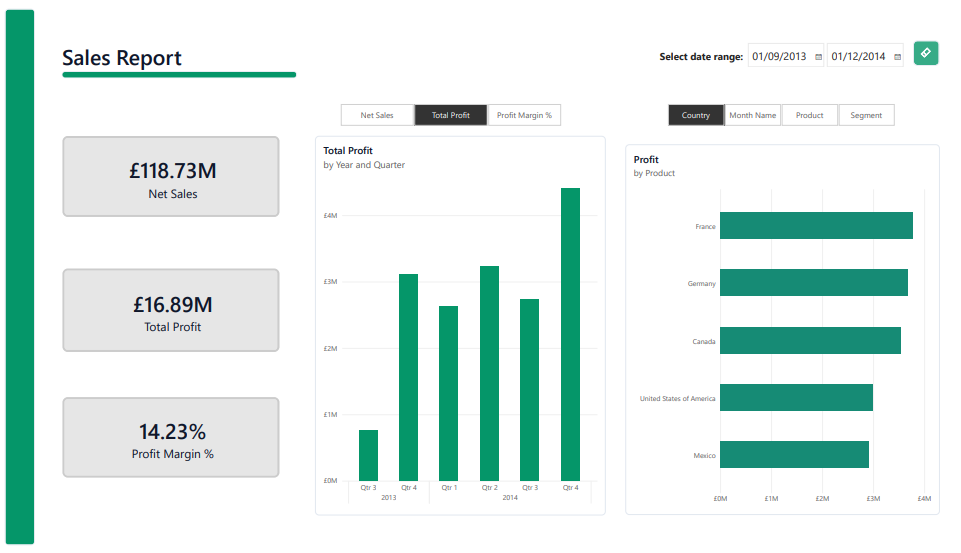

The dashboard page shown, as its layout file describes it:
{"tool":"powerbi","page":{"name":"Sales","canvas":[1920,1080],"ordinal":0},"visuals":[{"type":"shape","box":[0,0,60,1080],"z":0,"group":"g1"},{"type":"slicer","fields":{"Values":["financials.Date"]},"box":[1489.2,63.6,341,52.5],"z":0,"group":"g3"},{"type":"textbox","title":"Sales Report","box":[114.9,65.6,672.5,60],"z":0,"group":"g2"},{"type":"clusteredColumnChart","fields":{"Category":["financials.Date.Variation.Date Hierarchy.Year","financials.Date.Variation.Date Hierarchy.Quarter"],"Y":["financials.Total Profit"]},"box":[625,255.6,585.1,764.3],"z":0,"group":"g5"},{"type":"clusteredBarChart","title":"Profit","fields":{"Category":["financials.Country"],"Y":["Sum(financials.Profit)"]},"box":[1250,272.6,633.3,746.1],"z":0,"group":"g4"},{"type":"cardVisual","fields":{"Data":["Sum(financials.Profit)"]},"box":[115.6,523.1,437.8,168],"z":0},{"type":"slicer","fields":{"Values":["Measures 2.Measures"]},"box":[655.9,190,483,46.8],"z":500,"group":"g5"},{"type":"group","id":"g1","title":"side bar","box":[0,0,60,1080],"z":1000},{"type":"actionButton","box":[1830.1,63.6,52.5,50],"z":1000,"group":"g3"},{"type":"shape","box":[114.9,125.6,472.5,12.5],"z":1000,"group":"g2"},{"type":"slicer","fields":{"Values":["Parameter.Parameter"]},"box":[1315.3,190,496,46.9],"z":1000,"group":"g4"},{"type":"textbox","box":[1282.4,72.7,242.7,53.7],"z":2000,"group":"g3"},{"type":"cardVisual","fields":{"Data":["financials.Net Sales"]},"box":[115.6,256.1,437.8,162.4],"z":3000},{"type":"group","id":"g2","title":"Header","box":[114.9,65.6,672.9,72.7],"z":4000},{"type":"group","id":"g3","title":"date filter","box":[1282.4,63.6,600.2,62.8],"z":5000},{"type":"cardVisual","fields":{"Data":["financials.Profit Margin %"]},"box":[115.6,782,437.8,162.4],"z":6000},{"type":"group","id":"g4","title":"paramenters","box":[1250,190,633.3,828.8],"z":8000},{"type":"group","id":"g5","title":"Measures","box":[625,190,583.7,828.8],"z":9000}]}

Visuals, with their boxes in screenshot pixels (x1, y1, x2, y2), scaled from the page's 1920x1080 canvas onto the 961x553 screenshot:
shape: 0/0/30/552
slicer - financials.Date: 745/33/916/59
"Sales Report" textbox: 58/34/394/64
clusteredColumnChart - financials.Date.Variation.Date Hierarchy.Year x financials.Date.Variation.Date Hierarchy.Quarter: 313/131/606/522
"Profit" clusteredBarChart: 626/140/943/522
cardVisual - Sum(financials.Profit): 58/268/277/354
slicer - Measures 2.Measures: 328/97/570/121
"side bar" group: 0/0/30/552
actionButton: 916/33/942/58
shape: 58/64/294/71
slicer - Parameter.Parameter: 658/97/907/121
textbox: 642/37/763/65
cardVisual - financials.Net Sales: 58/131/277/214
"Header" group: 58/34/394/71
"date filter" group: 642/33/942/65
cardVisual - financials.Profit Margin %: 58/400/277/484
"paramenters" group: 626/97/943/522
"Measures" group: 313/97/605/522
